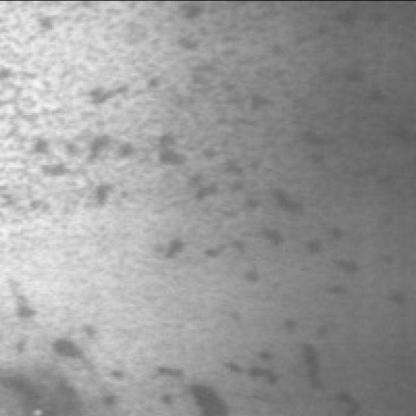pitted_surface: (29, 10, 387, 262), (141, 318, 366, 416), (0, 326, 152, 416)
